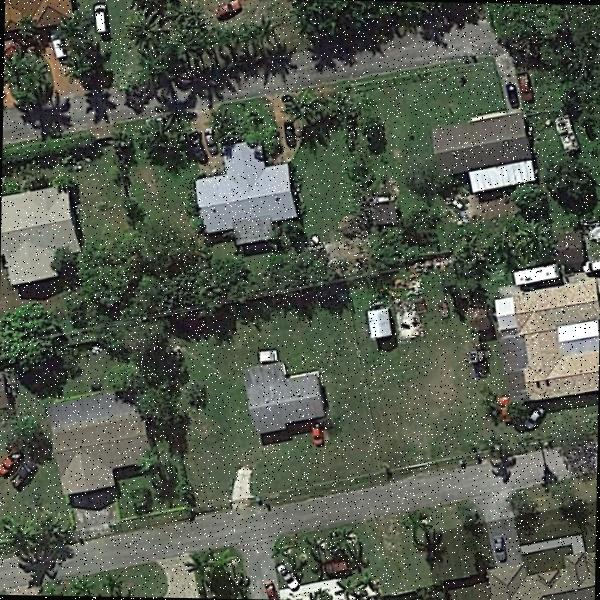Buildings: (488, 272, 600, 410), (202, 150, 298, 240), (51, 400, 139, 496), (436, 107, 532, 185), (0, 184, 70, 288), (234, 355, 326, 429), (512, 525, 592, 600), (4, 0, 67, 32)
